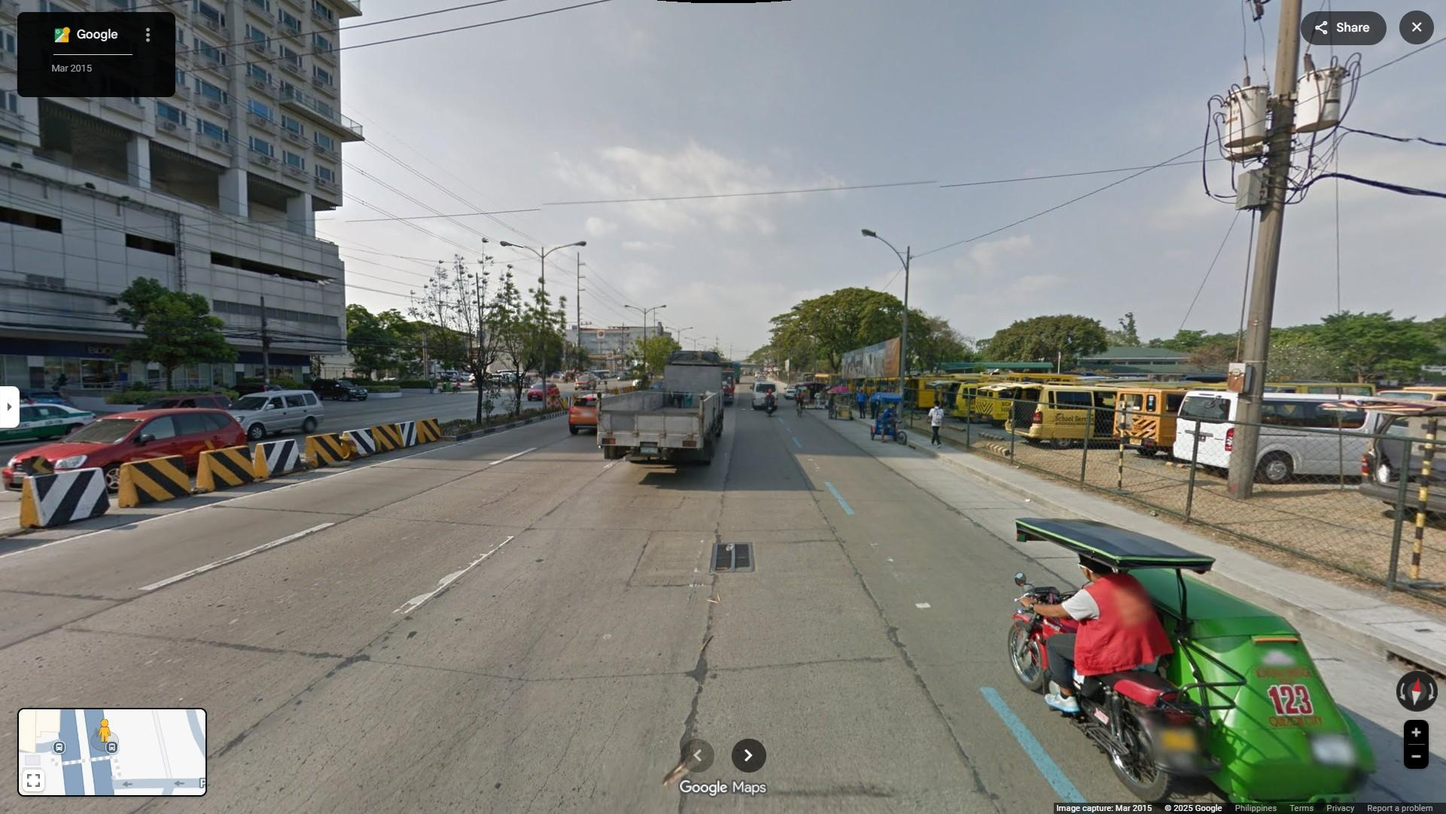cyclist: (764, 388, 776, 418), (793, 389, 805, 418)
pedestrian: (925, 400, 945, 449), (879, 404, 897, 443), (856, 388, 868, 419), (827, 392, 837, 420), (868, 389, 877, 419), (814, 389, 822, 411), (454, 379, 462, 394), (428, 378, 435, 395), (564, 373, 568, 384)
